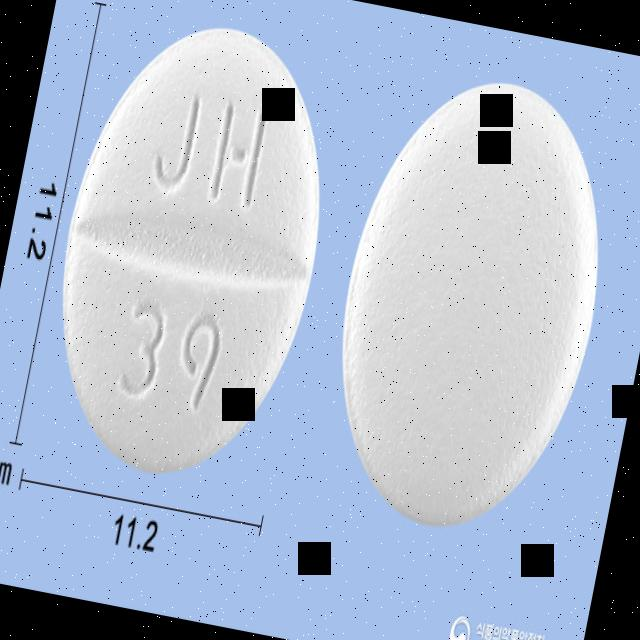Ciflox - 250mg: (23, 0, 360, 500)
